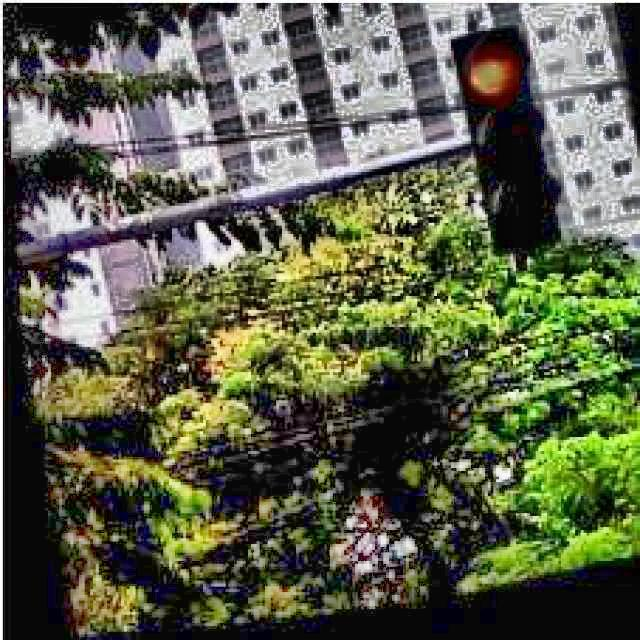red: (448, 24, 572, 256)
